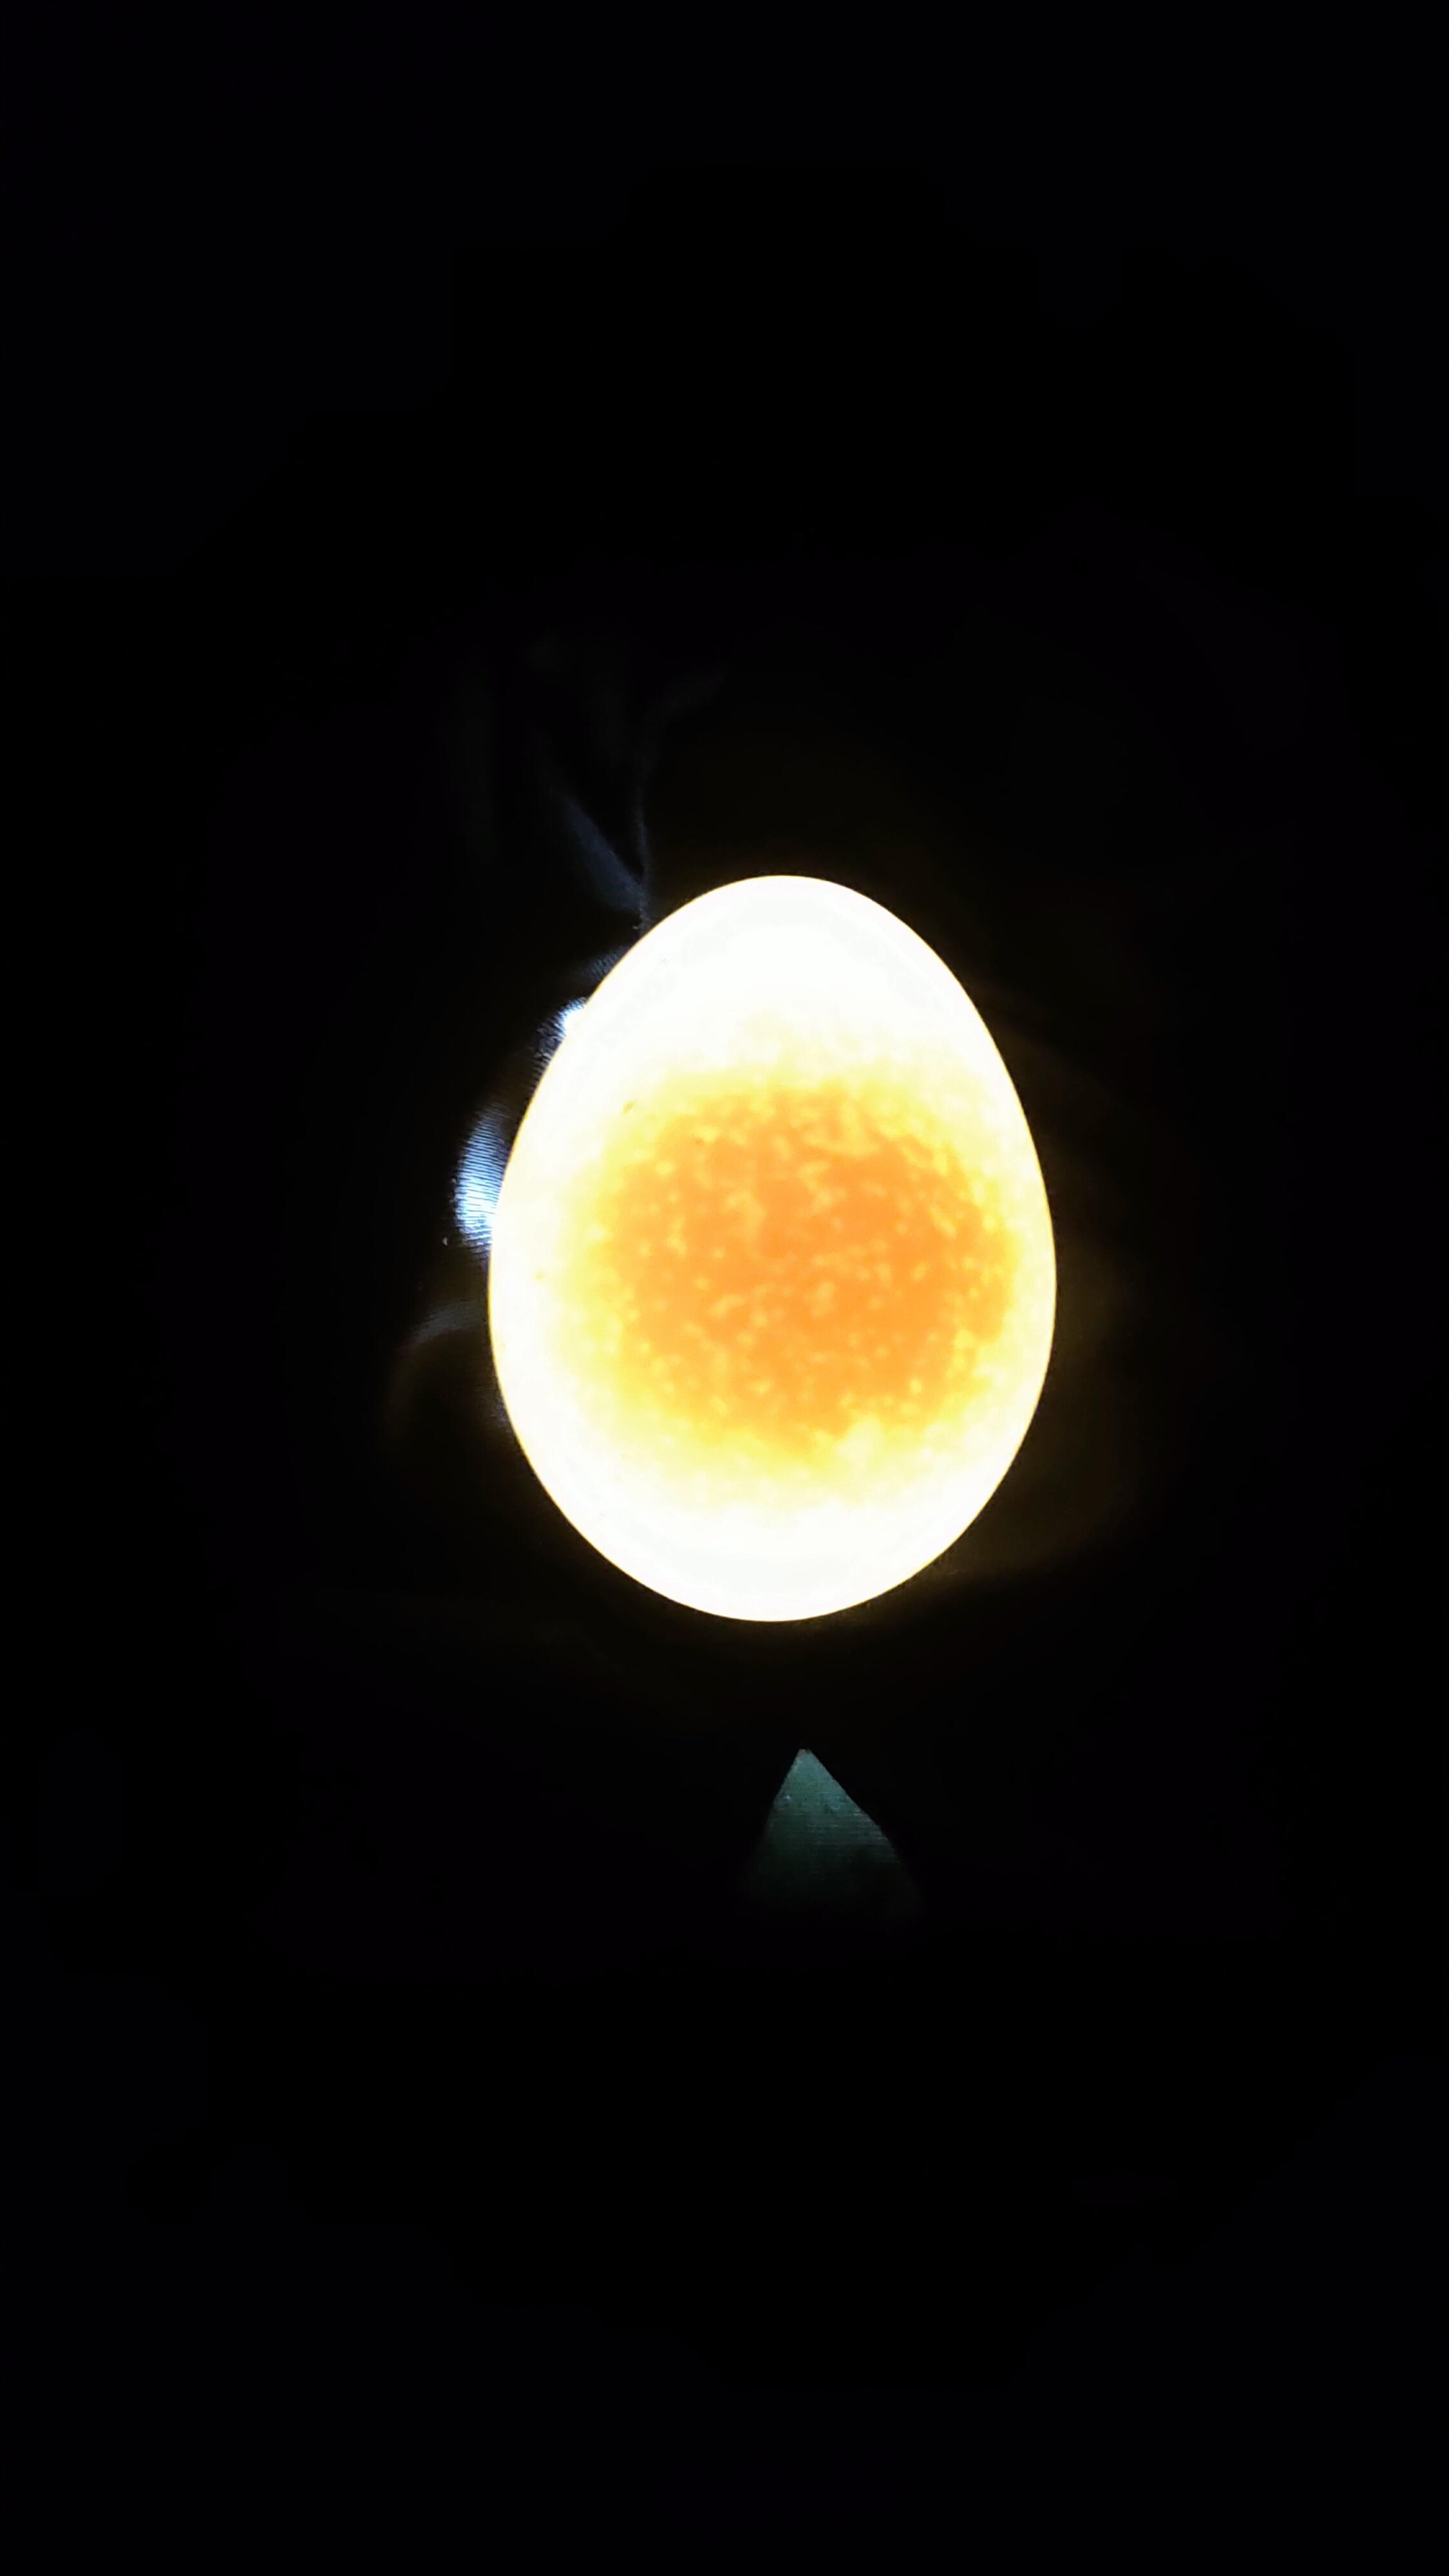Inedible: (432, 805, 1139, 1674)
